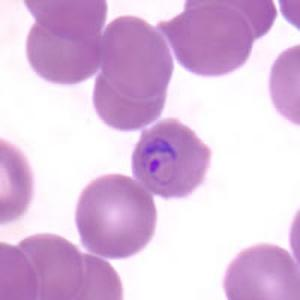Infected: (132, 118, 214, 199)
Uninfected: (158, 3, 254, 76), (100, 13, 174, 101), (75, 176, 154, 256), (28, 7, 99, 86), (93, 62, 167, 128), (13, 233, 84, 300), (224, 242, 299, 300), (24, 0, 105, 43)
